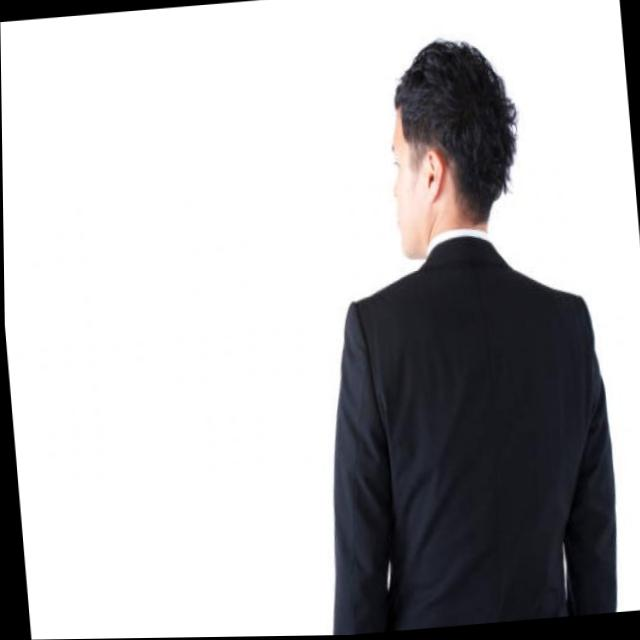no helmet: (353, 15, 534, 276)
